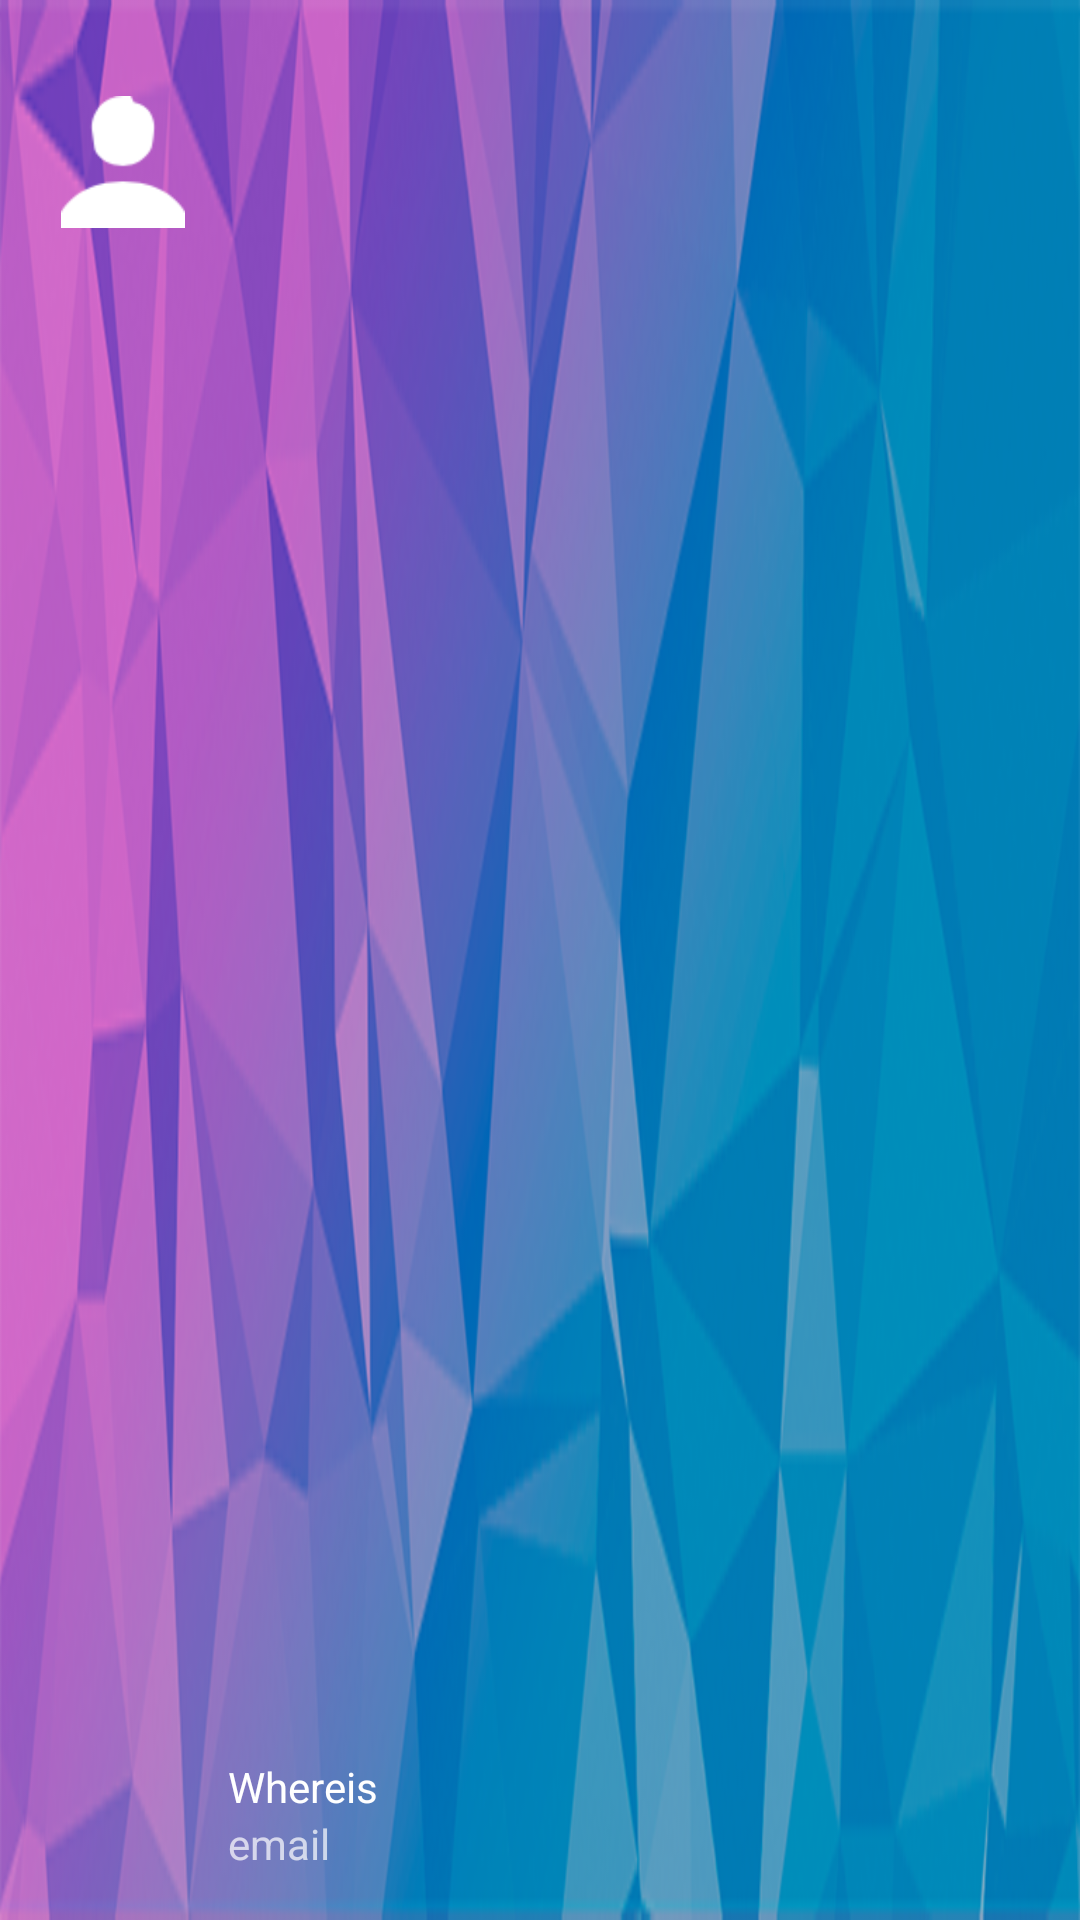

Icons on this 1080 × 1920 Android screen, each with the point to tap as (x,y):
user: (123,138)
